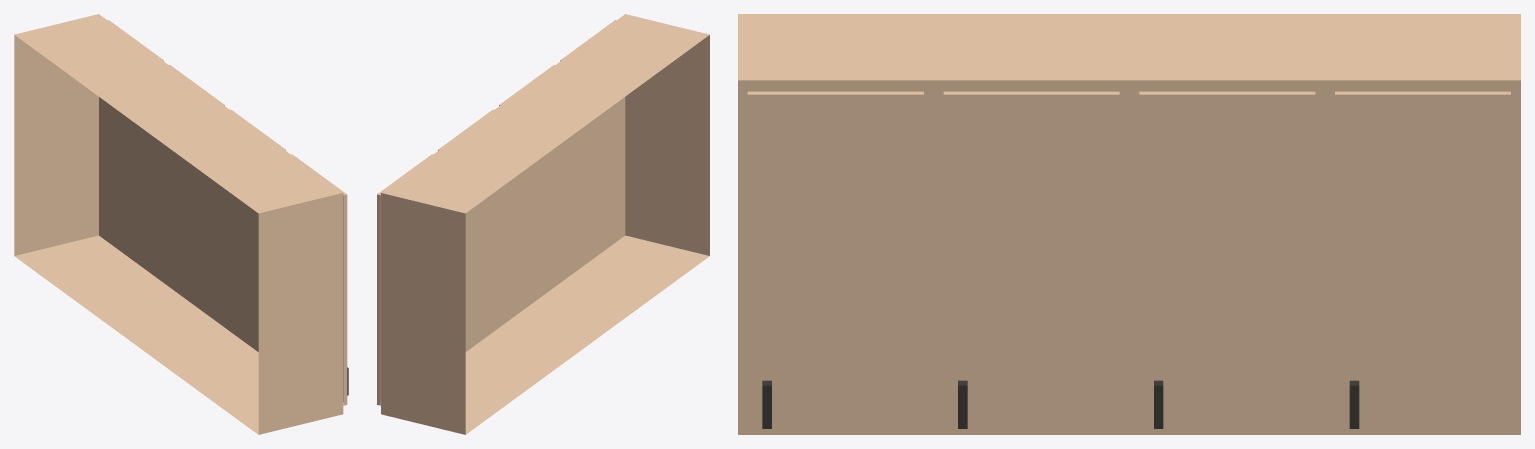
File: Cupboards.fbx
3 views of the same model, side by side, from view 1: azimuth 30°, elevation 25°; view 2: azimuth 150°, elevation 25°; view 3: azimuth 270°, elevation 25° (orthographic). The views are drawn at different scales.
Parts seen in each view (by area): view 1: Cupboards; view 2: Cupboards; view 3: Cupboards.
Part boxes in pixels (<box>): Cupboards: <box>14,14,348,434</box>; Cupboards: <box>377,14,709,434</box>; Cupboards: <box>738,14,1520,434</box>.
Bounding box in the file's own units: 82.82 × 179 × 358.
